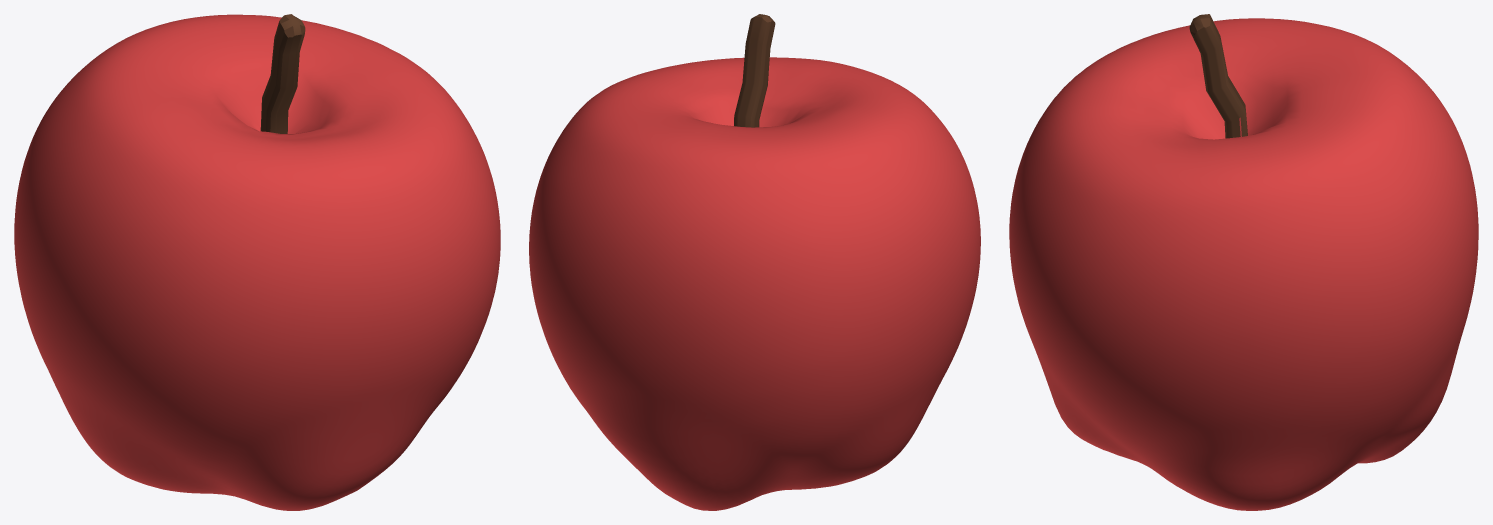
Rendered from Apple.fbx.
3 renders of one model, left to right at view 1: azimuth 30°, elevation 25°; view 2: azimuth 150°, elevation 25°; view 3: azimuth 270°, elevation 25°, orthographic. The views are drawn at different scales.
Visible parts, largest first — view 1: pCube1; view 2: pCube1; view 3: pCube1.
Boxes of the visible parts, x1,y1,x2,y2 form: pCube1: [14, 14, 500, 510]; pCube1: [529, 14, 980, 510]; pCube1: [1009, 14, 1478, 510].
Size of the model in its own units: 1.84 by 1.95 by 1.84.
